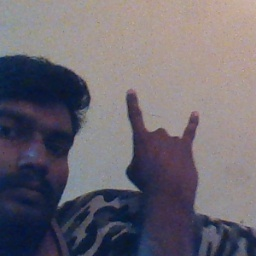V: (120, 85, 211, 203)
